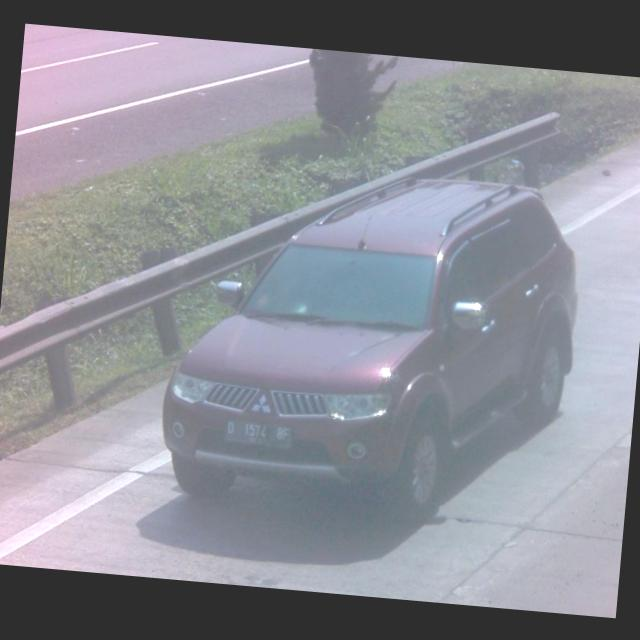plate: (221, 414, 295, 452)
